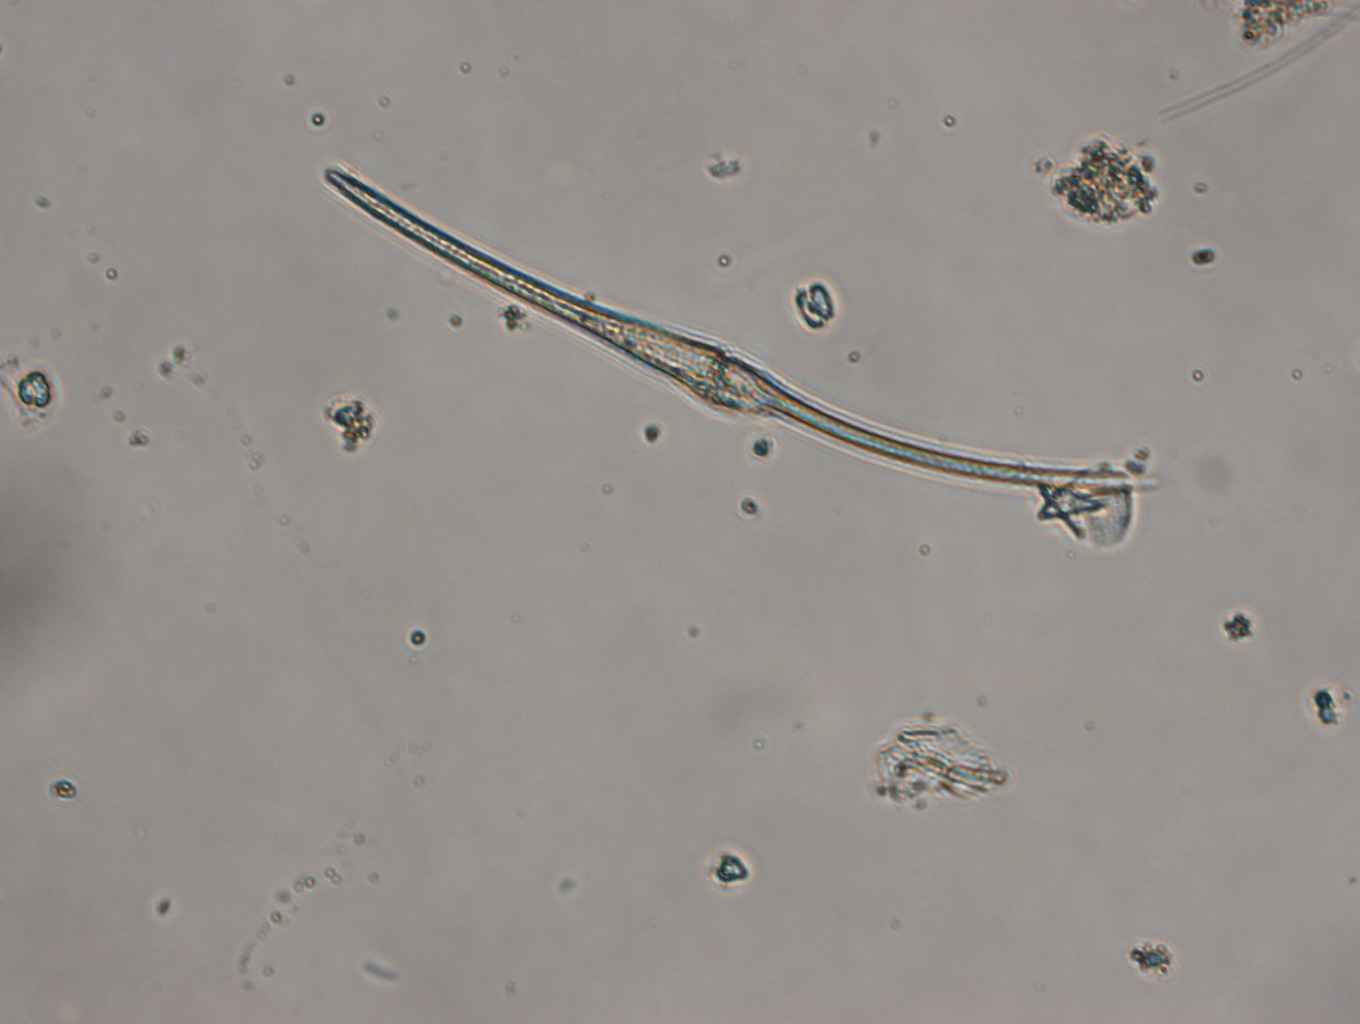ceratium furca: (320, 151, 1166, 503)
